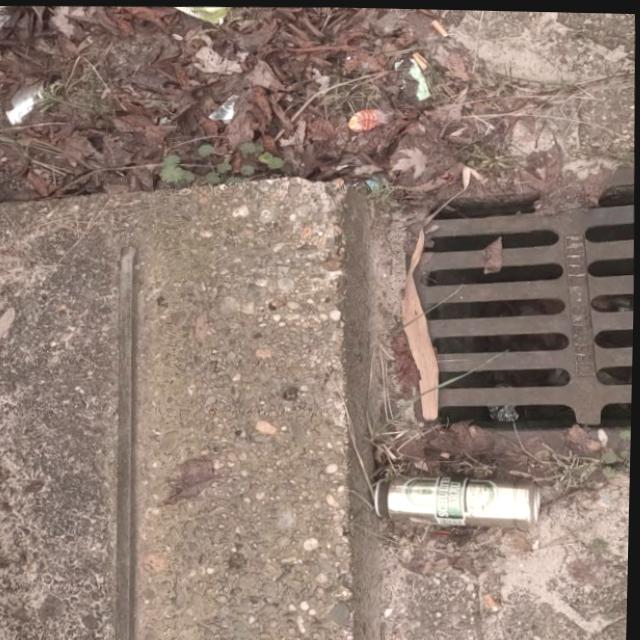Can-Metal: (375, 468, 543, 529)
Plastic: (146, 4, 234, 25), (345, 106, 390, 130)
